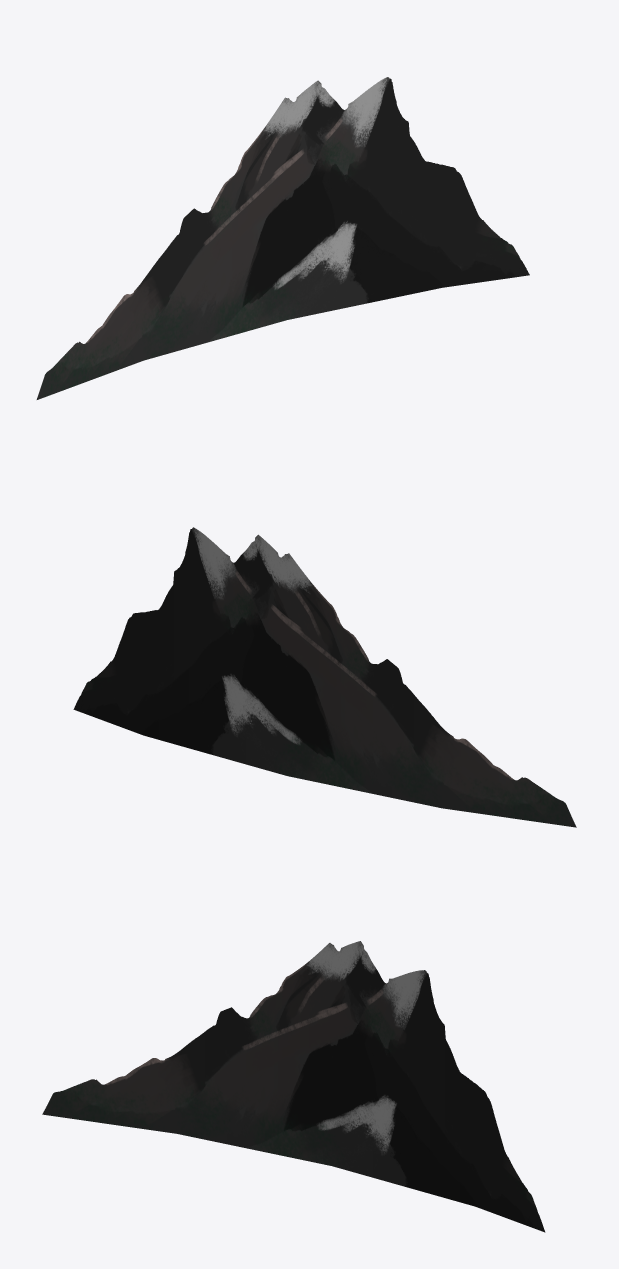
File: SM_Mountain_lower.fbx
The picture shows the model from 3 angles, top to bottom: view 1: azimuth 30°, elevation 25°; view 2: azimuth 150°, elevation 25°; view 3: azimuth 330°, elevation 25°; orthographic projection.
Visible parts, largest first — view 1: Plane001; view 2: Plane001; view 3: Plane001.
Boxes of the visible parts, box(x1,y1,x2,y2) form: Plane001: box(36, 77, 529, 399); Plane001: box(73, 527, 576, 827); Plane001: box(42, 941, 545, 1232).
Size of the model in its own units: 98.86 by 40 by 6.51.
